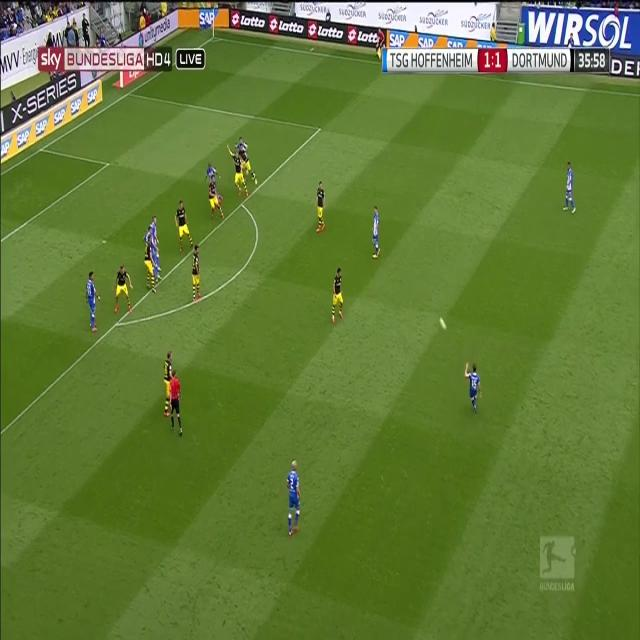Ball: (434, 314, 452, 331)
Player: (284, 456, 304, 544), (111, 262, 135, 318), (462, 357, 484, 417), (560, 157, 580, 220), (173, 197, 194, 256), (329, 265, 347, 332), (85, 269, 102, 338), (231, 149, 252, 197), (207, 174, 226, 227), (237, 143, 260, 184), (311, 180, 327, 237), (144, 224, 157, 293), (162, 351, 174, 419), (370, 202, 383, 263), (190, 242, 202, 307), (150, 212, 160, 274)
Referee: (167, 366, 185, 436)
